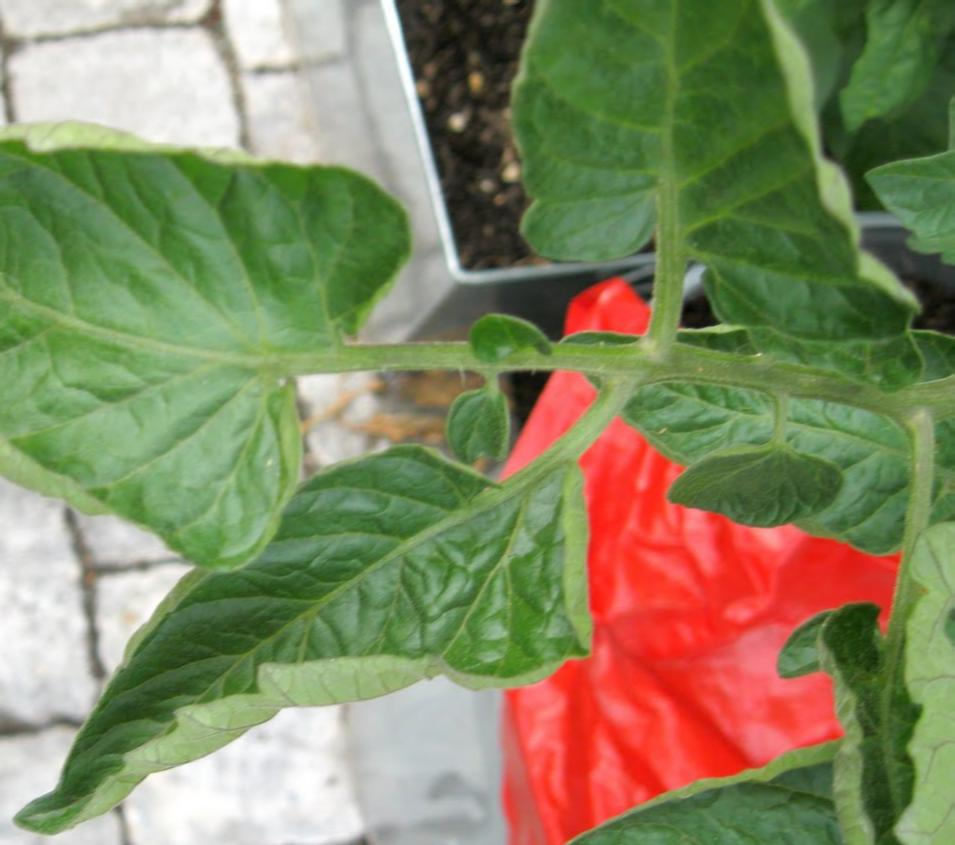Tomato leaf: (8, 429, 614, 845), (0, 135, 414, 571), (503, 0, 922, 348)
